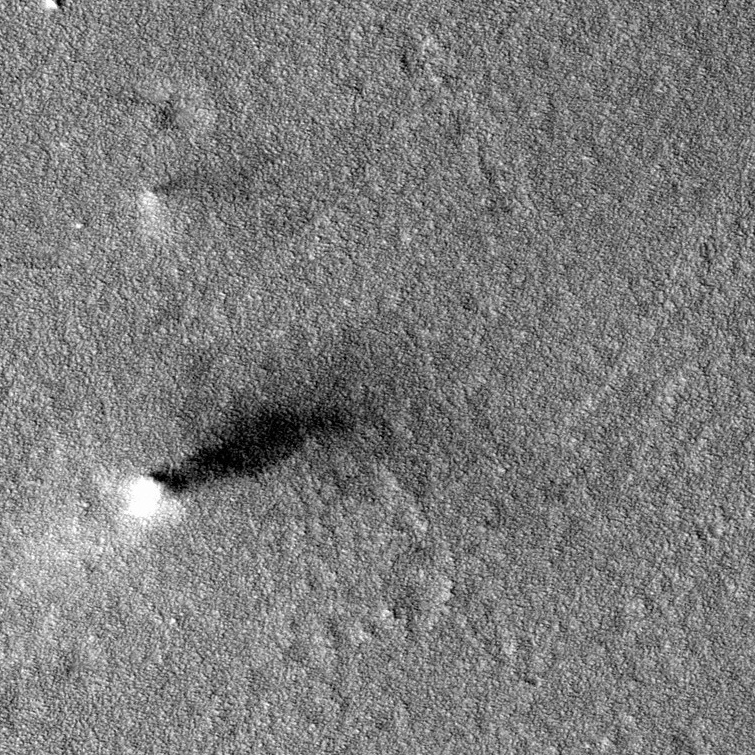dust_devil: (114, 391, 367, 533), (136, 166, 254, 223)
